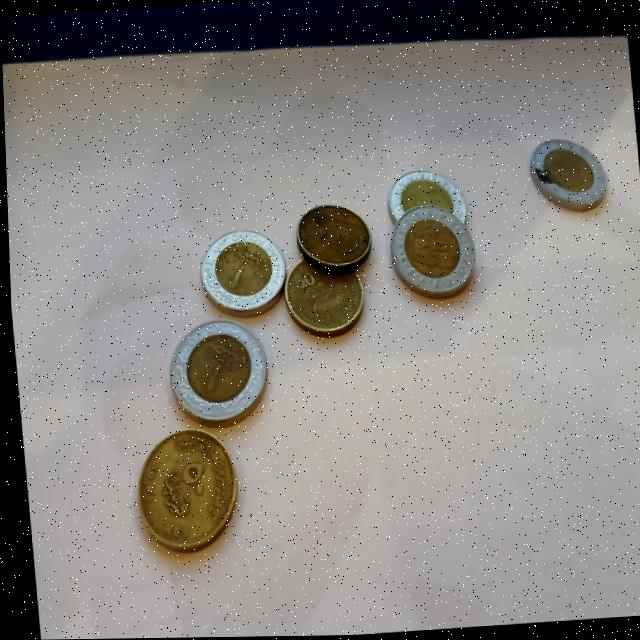Half Pound: (121, 420, 239, 565), (280, 253, 372, 351), (288, 191, 374, 276)
One Pound: (153, 308, 272, 442), (368, 138, 469, 254), (382, 201, 482, 311), (191, 220, 285, 325), (524, 129, 612, 215)
